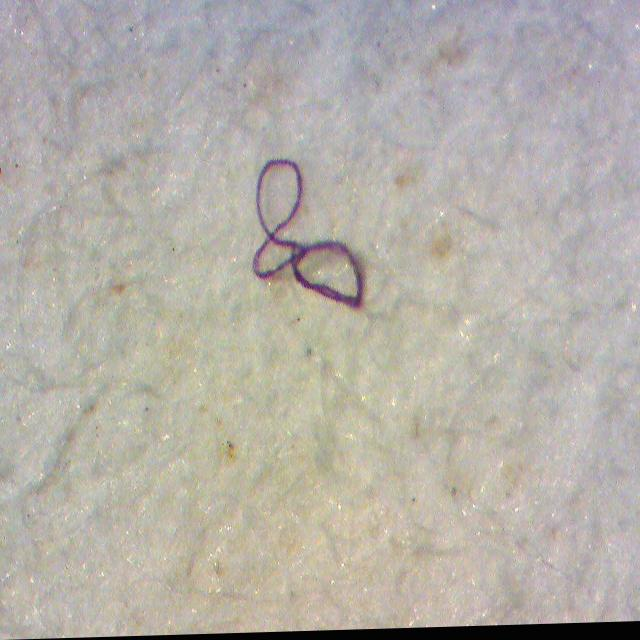microplastic: (236, 146, 386, 314)
